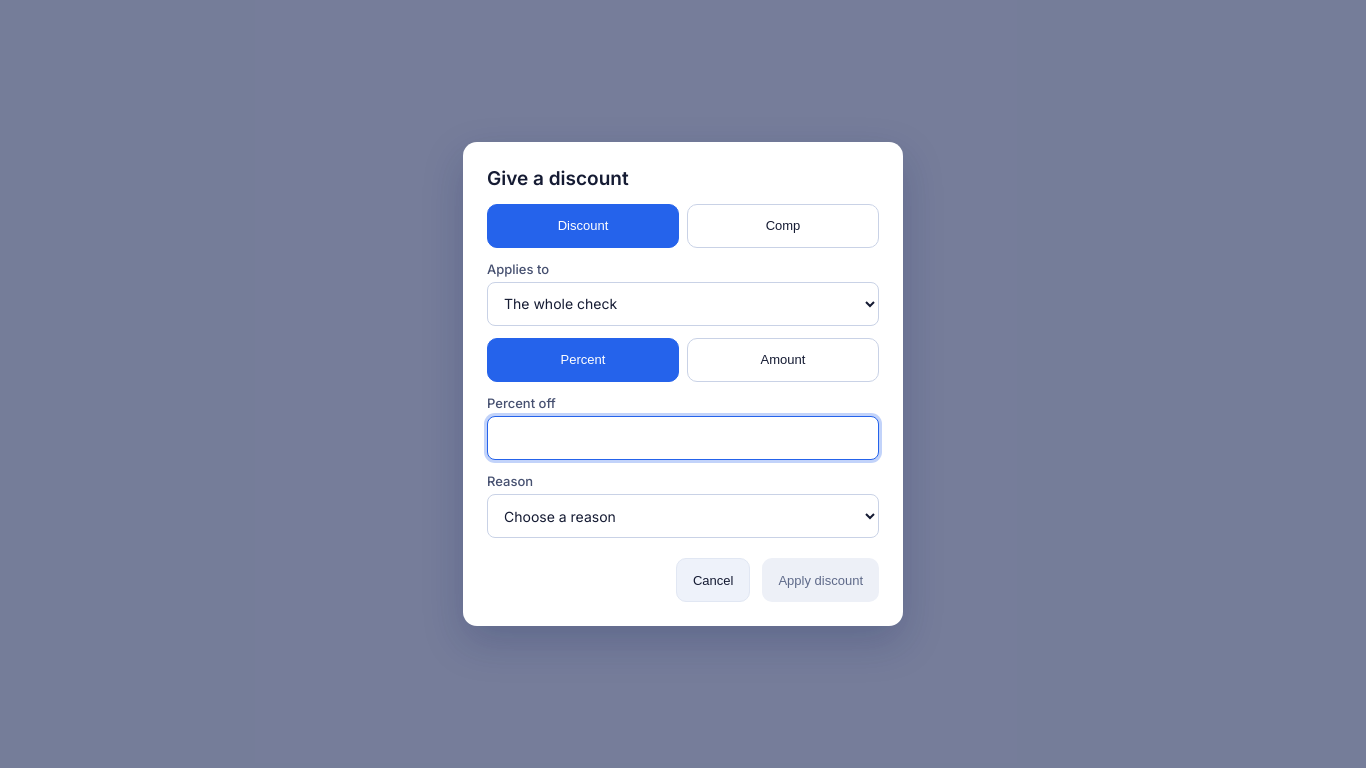
it: <DiscountDialog> › shows the server's message when the request is refused
Type "10" into the field labelled "Percent off". click: (683, 438)
box: x1=487 y1=416 x2=879 y2=460
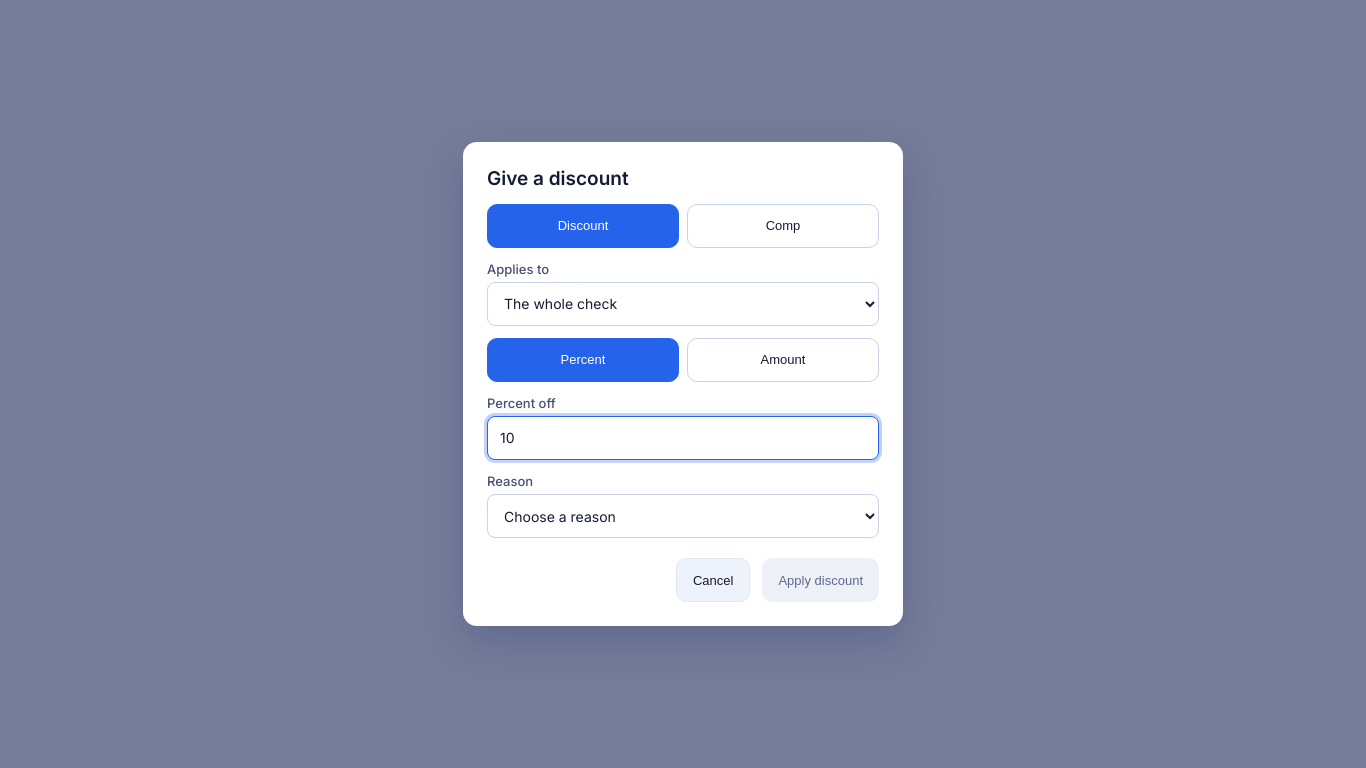
Select "Promotion" in the dropdown labelled "Reason". click: (683, 516)
box: x1=487 y1=494 x2=879 y2=538
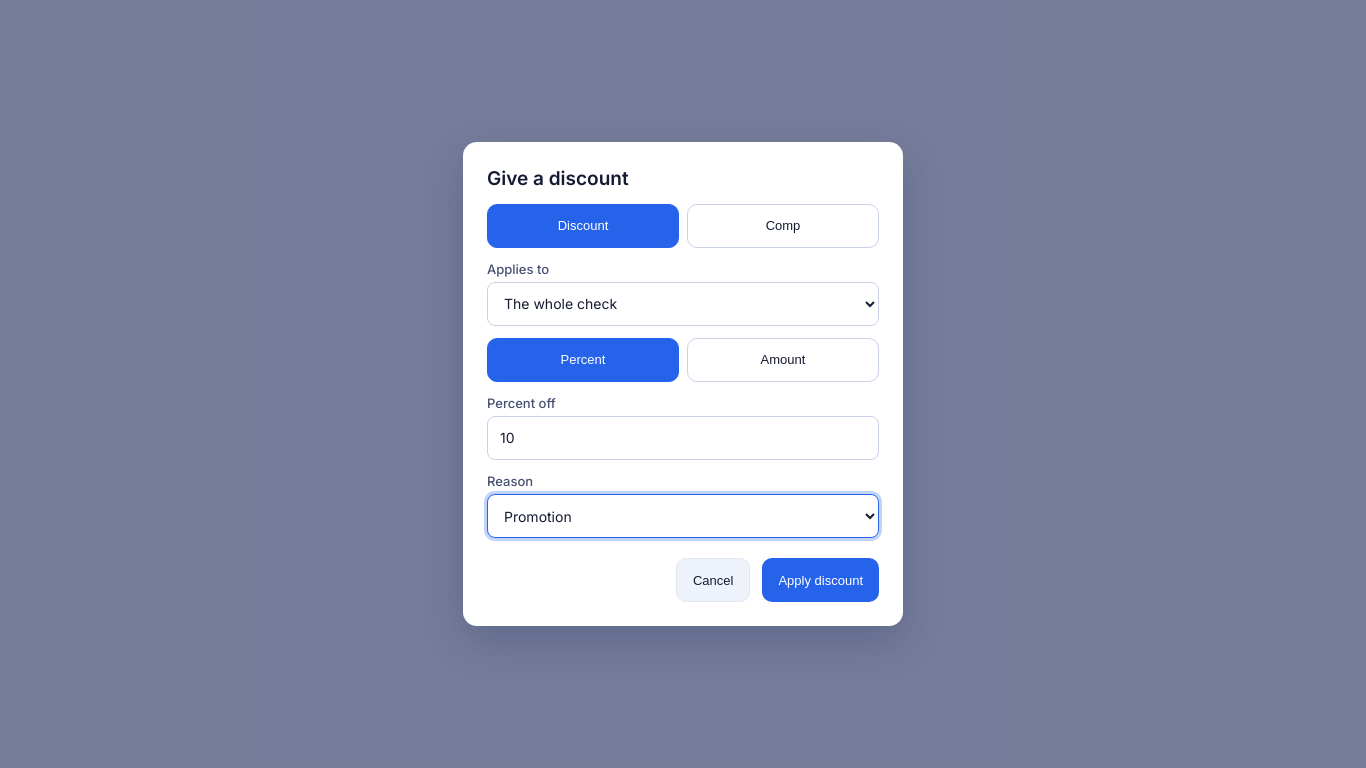
Click the button "Apply discount". click: (821, 580)
box: x1=762 y1=558 x2=879 y2=602
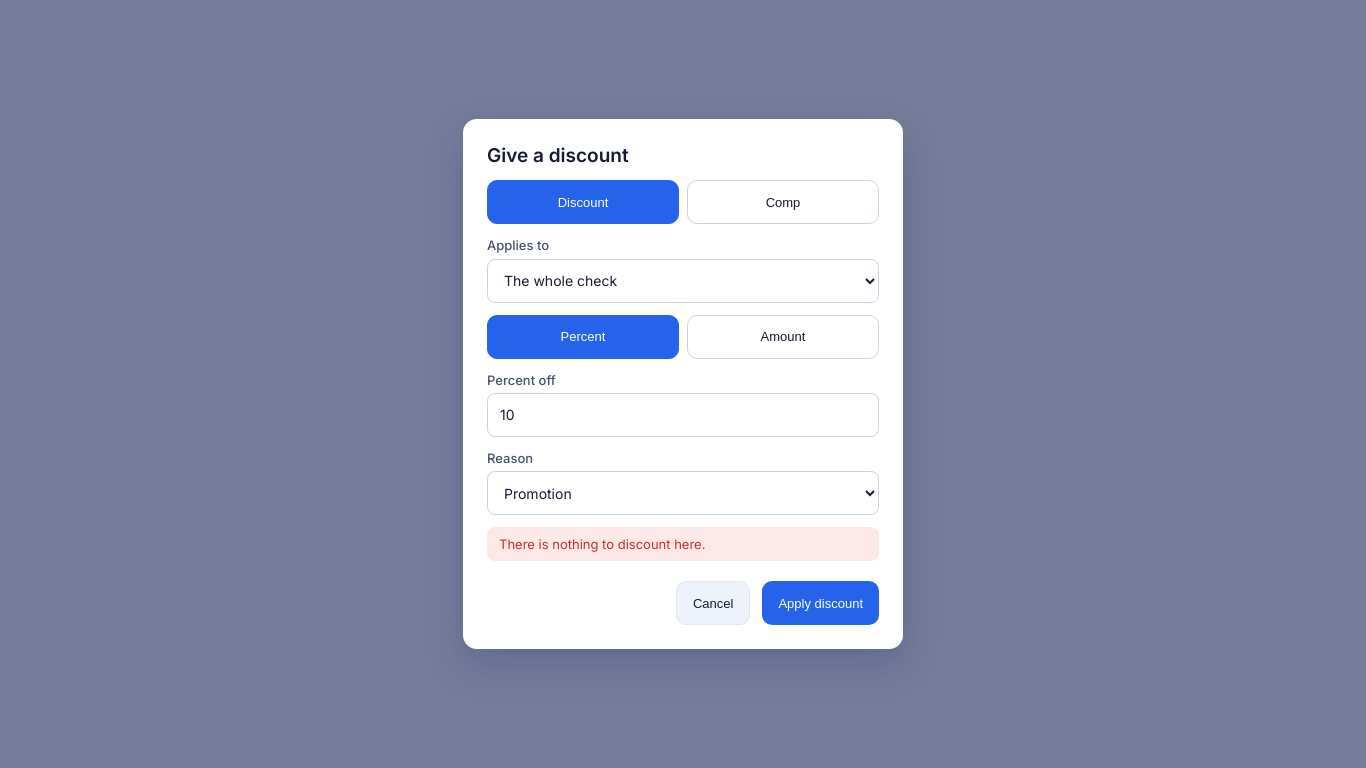
Expected: the text "There is nothing to discount here." is shown, x1=487 y1=527 x2=879 y2=561
